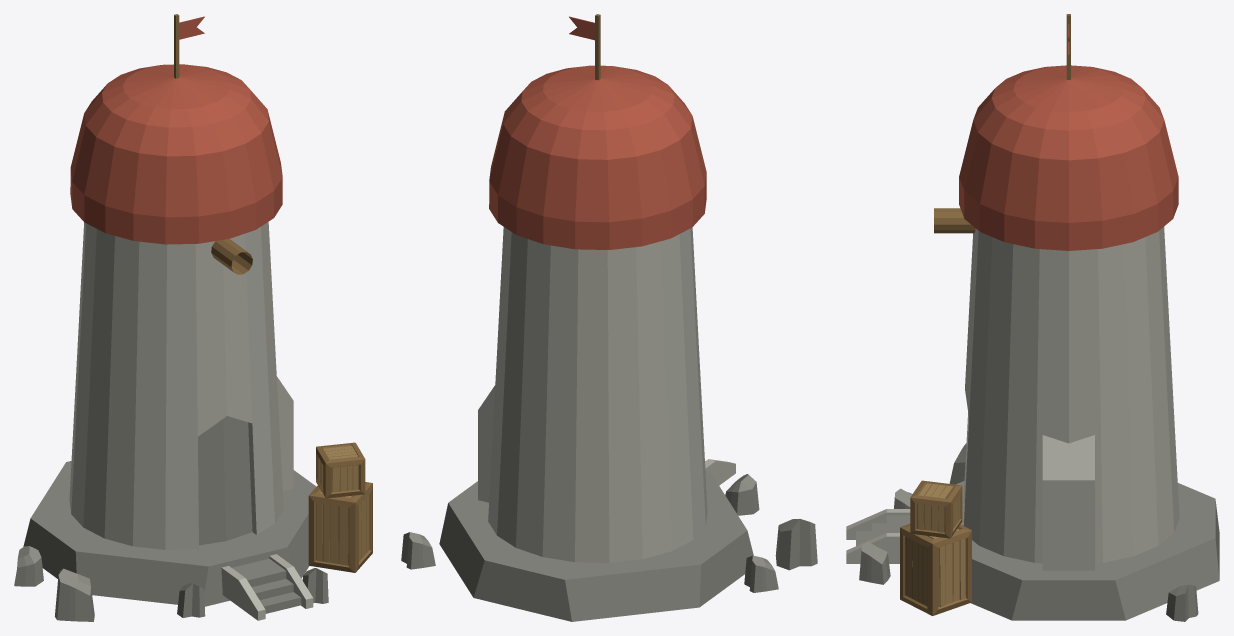
The model's file is Windmill_SecodAge.glb.
3 views of the same model, side by side, from view 1: azimuth 30°, elevation 25°; view 2: azimuth 150°, elevation 25°; view 3: azimuth 270°, elevation 25° (orthographic). The views are drawn at different scales.
Parts seen in each view (by area): view 1: Windmill_SecondAge; view 2: Windmill_SecondAge; view 3: Windmill_SecondAge.
Boxes of the visible parts, <box> form: Windmill_SecondAge: <box>14,14,372,621</box>; Windmill_SecondAge: <box>401,14,817,621</box>; Windmill_SecondAge: <box>846,14,1219,621</box>.
Size of the model in its own units: 0.9144 by 1.52 by 0.9424.
